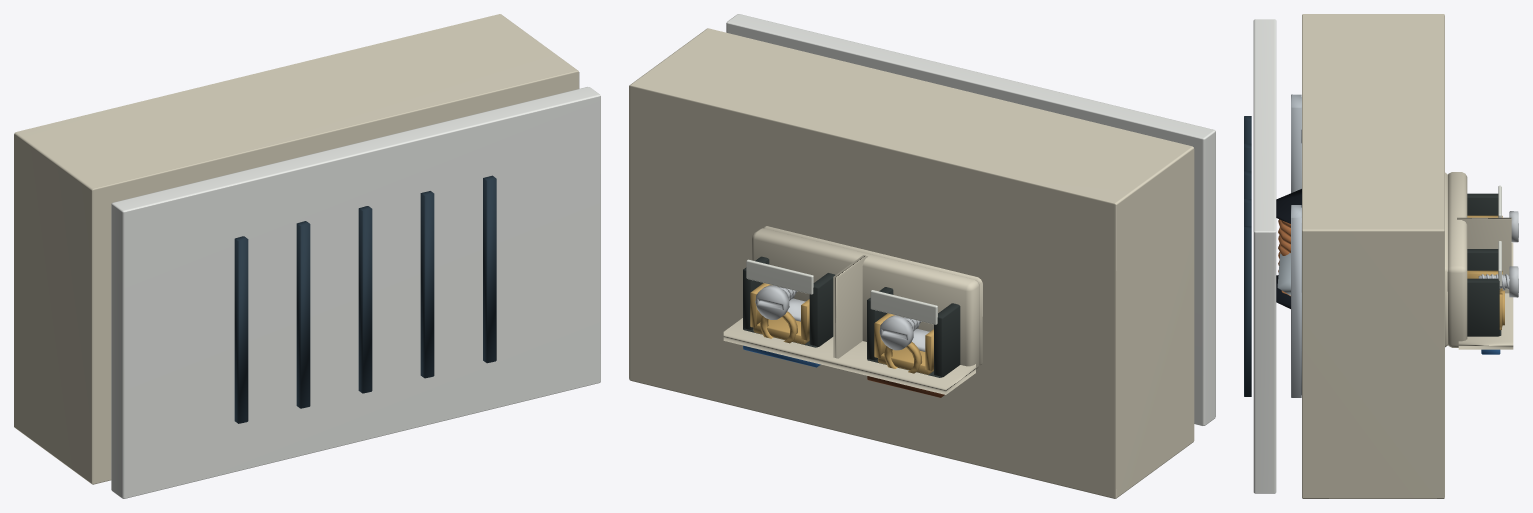
The model's file is chime_default.low.glb.
3 renders of one model, left to right at view 1: azimuth 30°, elevation 25°; view 2: azimuth 150°, elevation 25°; view 3: azimuth 270°, elevation 25°, orthographic. The views are drawn at different scales.
Visible parts, largest first — view 1: part:cover, part:body, part:cover · Original a463fd81; view 2: part:body, part:cover, part:terminals · Original 5a609f27, detail:terminal-clamp:L · Detail moulded engineering polymer, detail:terminal-clamp:N · Detail moulded engineering polymer, detail:terminal-clamp:N · Detail machined brass, detail:terminal-clamp:L · Detail machined brass, Moulded terminal legend pad, Moulded terminal legend pad.001, detail:terminal-clamp:L · Detail zinc plated fixing, detail:terminal-clamp:N · Detail zinc plated fixing; view 3: part:body, part:cover, part:terminals · Original 5a609f27, detail:alarm-transducer · Detail brushed stainless steel, detail:terminal-clamp:N · Detail moulded engineering polymer, part:cover · Original a463fd81, part:coil · Original 3ff2d46d, detail:terminal-clamp:L · Detail moulded engineering polymer, part:actuator · Original 2a8198d3, detail:terminal-clamp:N · Detail zinc plated fixing, part:coil, detail:terminal-clamp:N · Detail machined brass.
Part boxes in pixels (box(x1,y1,x2,y2)): part:cover: box(111, 87, 600, 498); part:body: box(14, 14, 579, 484); part:cover · Original a463fd81: box(234, 175, 496, 423); part:body: box(629, 28, 1194, 498); part:cover: box(726, 14, 1215, 425); part:terminals · Original 5a609f27: box(723, 226, 982, 394); detail:terminal-clamp:L · Detail moulded engineering polymer: box(867, 287, 960, 377); detail:terminal-clamp:N · Detail moulded engineering polymer: box(743, 256, 835, 347); detail:terminal-clamp:N · Detail machined brass: box(750, 283, 809, 344); detail:terminal-clamp:L · Detail machined brass: box(874, 313, 933, 374); Moulded terminal legend pad: box(870, 290, 937, 324); Moulded terminal legend pad.001: box(746, 259, 813, 294); detail:terminal-clamp:L · Detail zinc plated fixing: box(879, 315, 929, 351); detail:terminal-clamp:N · Detail zinc plated fixing: box(755, 285, 805, 321); part:body: box(1302, 14, 1444, 498); part:cover: box(1253, 19, 1276, 493); part:terminals · Original 5a609f27: box(1445, 172, 1513, 349); detail:alarm-transducer · Detail brushed stainless steel: box(1291, 94, 1301, 397); detail:terminal-clamp:N · Detail moulded engineering polymer: box(1467, 249, 1501, 336); part:cover · Original a463fd81: box(1244, 116, 1251, 396); part:coil · Original 3ff2d46d: box(1276, 189, 1301, 308); detail:terminal-clamp:L · Detail moulded engineering polymer: box(1467, 193, 1498, 215); part:actuator · Original 2a8198d3: box(1277, 97, 1301, 394); detail:terminal-clamp:N · Detail zinc plated fixing: box(1478, 266, 1518, 297); part:coil: box(1278, 219, 1290, 296); detail:terminal-clamp:N · Detail machined brass: box(1467, 270, 1504, 330).
Size of the model in its own units: 0.8462 by 0.4903 by 0.4531.
